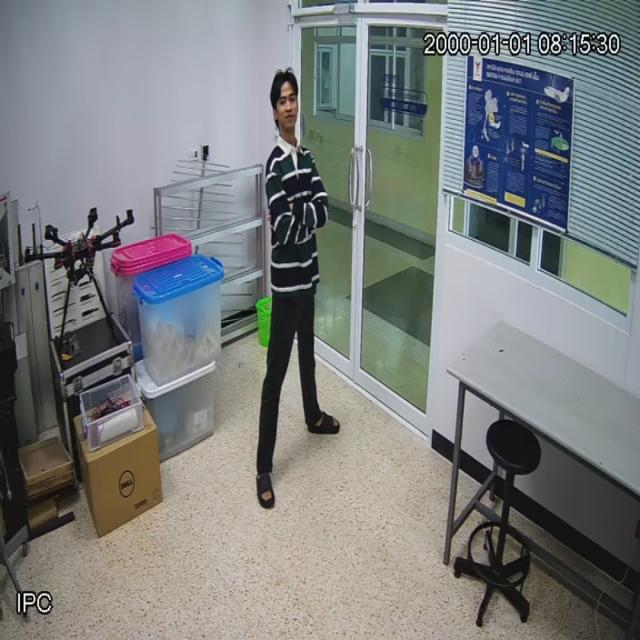normal: (258, 70, 339, 503)
